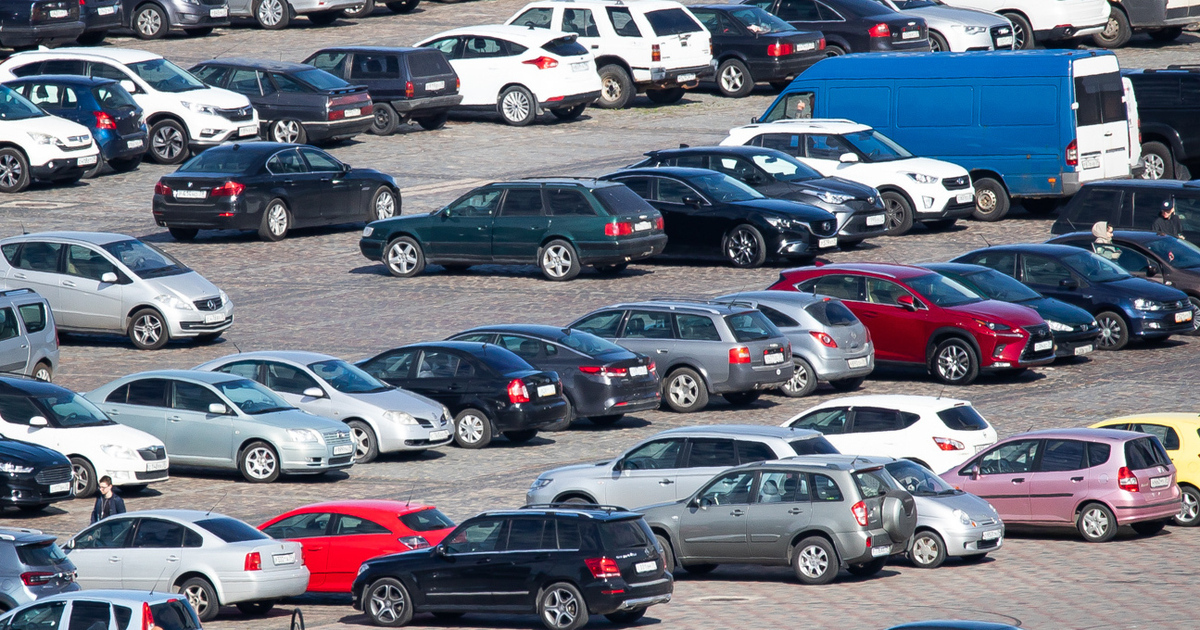Car: (759, 49, 1133, 220), (349, 503, 673, 630), (636, 456, 918, 584), (768, 263, 1056, 384), (359, 176, 667, 281), (83, 370, 356, 483), (0, 47, 260, 164), (721, 118, 976, 235), (190, 351, 455, 463), (0, 231, 234, 350), (938, 428, 1182, 542), (63, 510, 309, 621), (565, 298, 794, 413), (953, 242, 1196, 350), (526, 424, 837, 508), (629, 146, 887, 247), (152, 142, 403, 241), (602, 167, 840, 267), (448, 324, 662, 431), (353, 341, 566, 448), (507, 0, 713, 108), (0, 371, 170, 499), (256, 500, 456, 593), (417, 25, 601, 125), (711, 290, 876, 396), (917, 262, 1099, 358), (783, 394, 997, 473), (1045, 230, 1200, 337), (863, 456, 1005, 568), (190, 58, 373, 144), (0, 75, 148, 176), (304, 46, 461, 135), (689, 4, 825, 97), (1091, 413, 1200, 526), (1048, 177, 1200, 249), (0, 85, 99, 192), (742, 0, 930, 56), (1124, 65, 1200, 179), (945, 0, 1110, 49), (0, 590, 202, 630), (880, 0, 1016, 51), (0, 527, 80, 612), (0, 435, 74, 511), (0, 289, 59, 381), (1093, 0, 1200, 48), (0, 0, 84, 50), (123, 0, 230, 39), (227, 0, 364, 29), (1123, 78, 1143, 177), (77, 0, 123, 43), (885, 619, 1022, 630), (344, 0, 420, 18), (431, 0, 479, 5)
